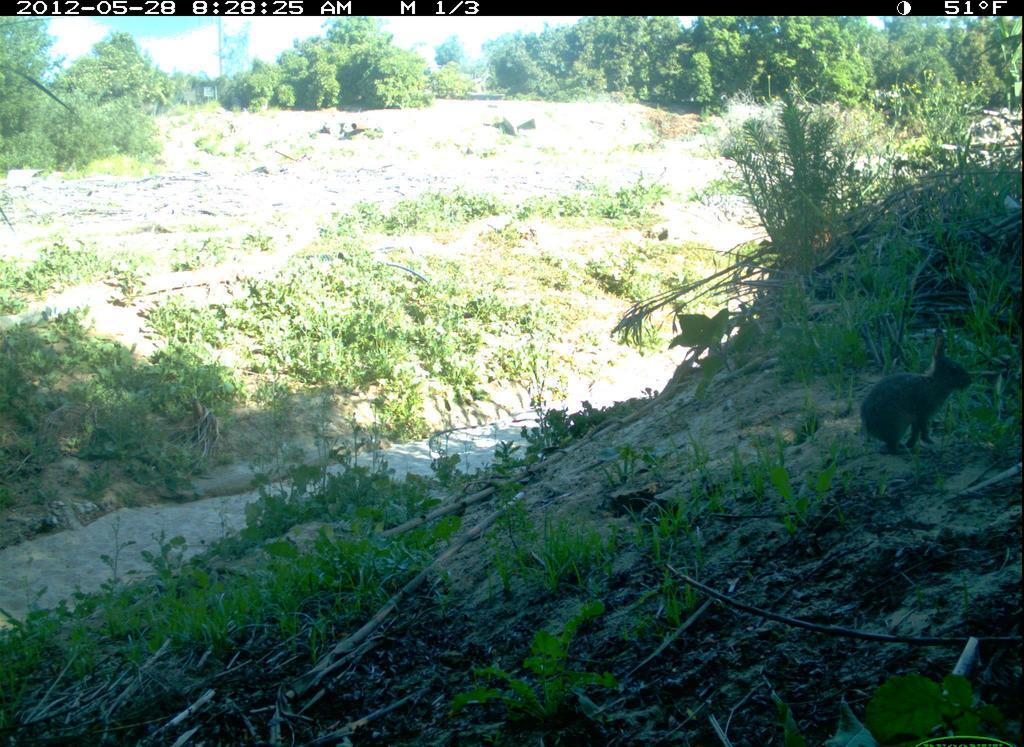rabbit: (845, 328, 976, 472)
